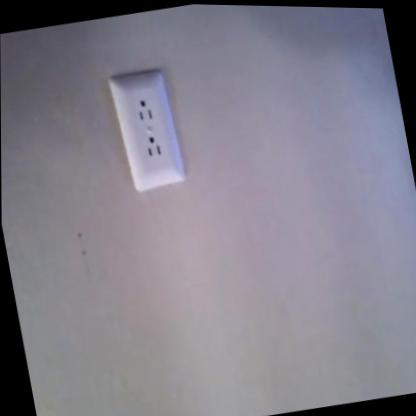OUTLET: (108, 72, 184, 195)
